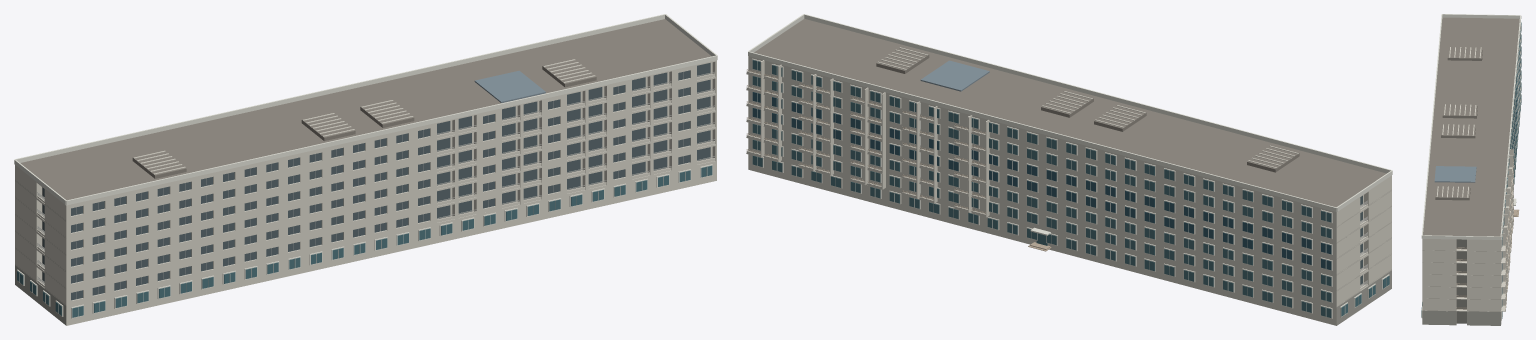
The model's file is chunk-dorm-way-760187416.glb.
3 renders of one model, left to right at view 1: azimuth 30°, elevation 25°; view 2: azimuth 150°, elevation 25°; view 3: azimuth 270°, elevation 25°, orthographic. The views are drawn at different scales.
Parts seen in each view (by area): view 1: chunk-dorm-way-760187416; view 2: chunk-dorm-way-760187416; view 3: chunk-dorm-way-760187416.
Boxes of the visible parts, left/top/right/bottom form: chunk-dorm-way-760187416: left=14, top=14, right=717, bottom=325; chunk-dorm-way-760187416: left=746, top=14, right=1392, bottom=325; chunk-dorm-way-760187416: left=1421, top=14, right=1521, bottom=325.
Bounding box in the file's own units: 125 × 23.21 × 23.7.
12 materials, 1 textured.
